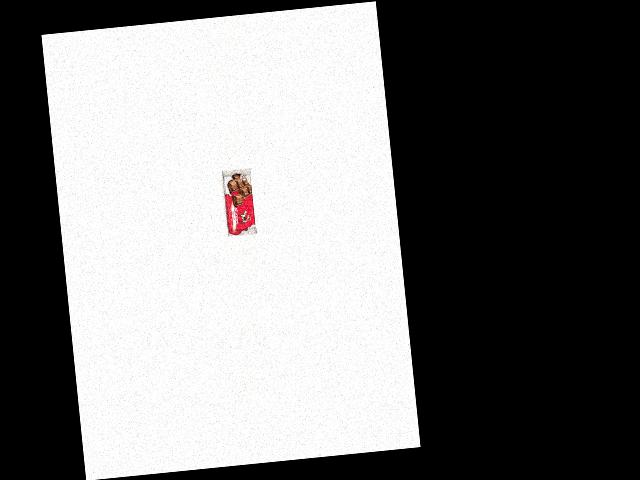chocolate: (216, 166, 259, 238)
